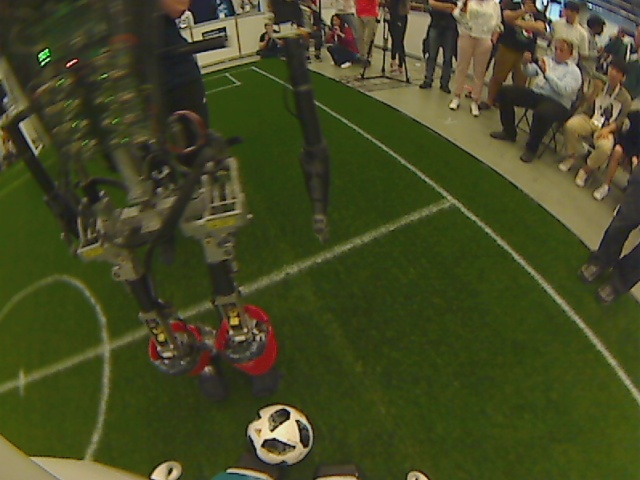ball: (244, 403, 314, 466)
